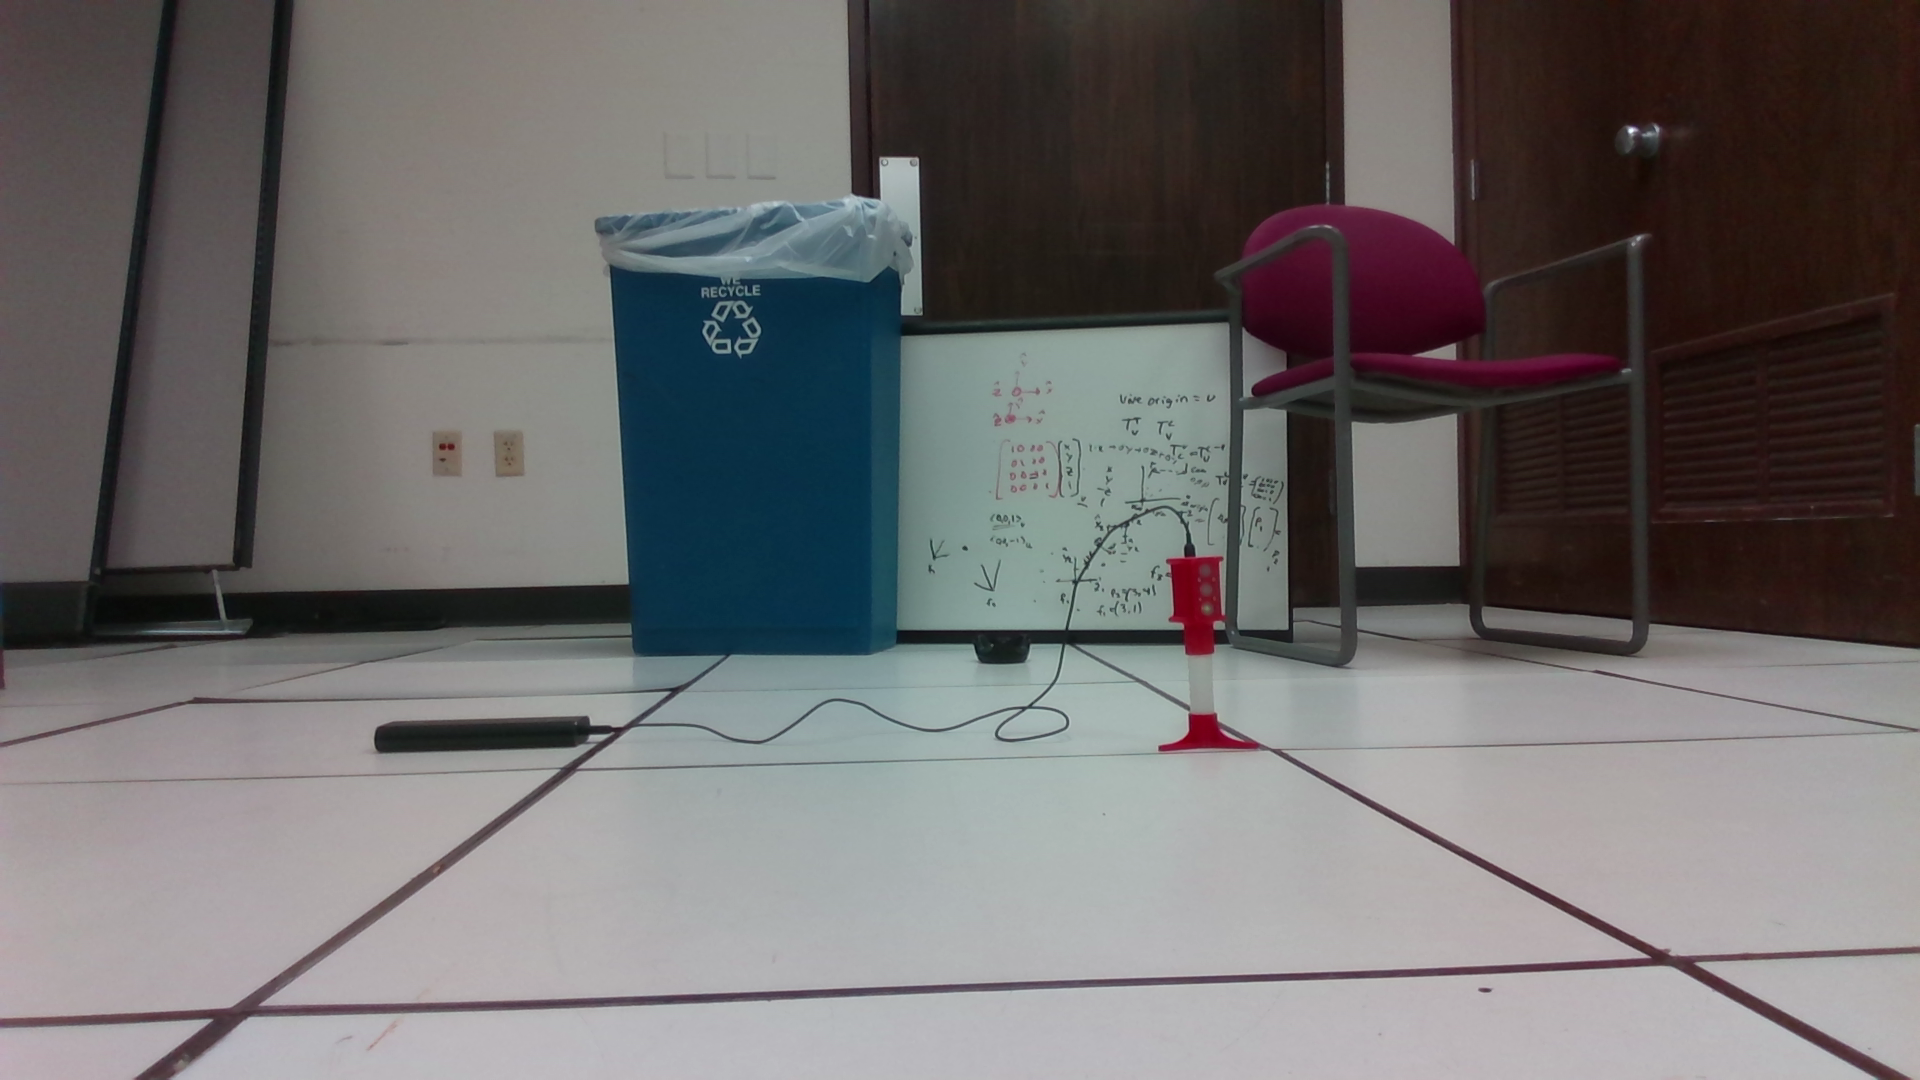stoplight: (1170, 555, 1228, 661)
